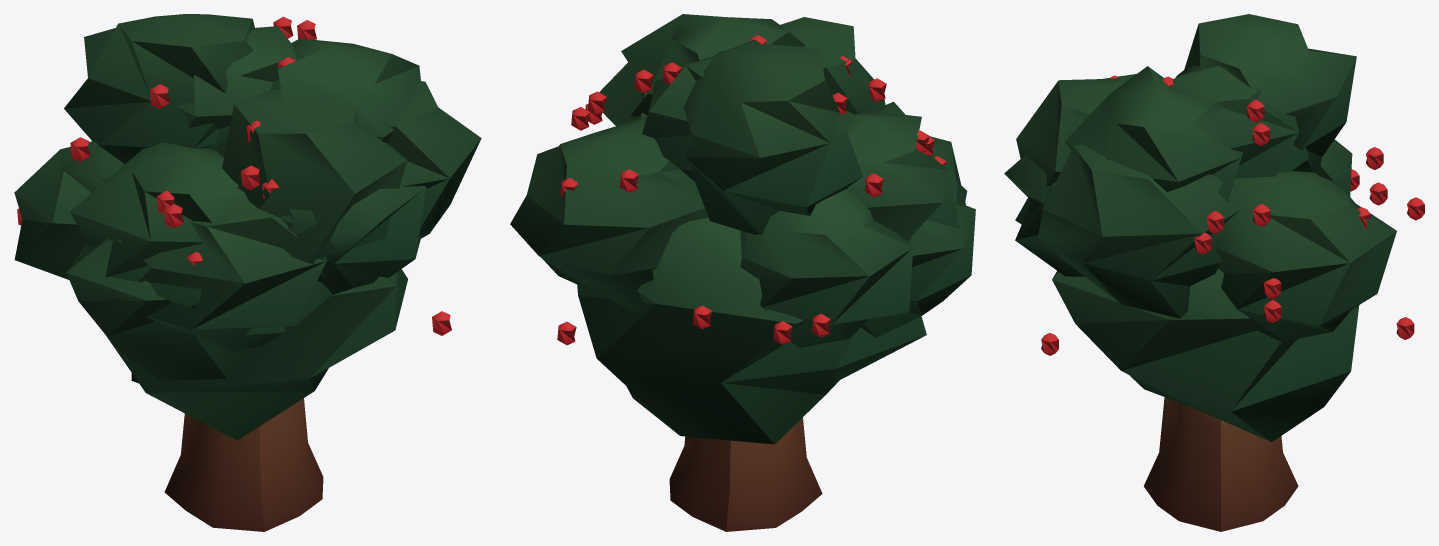
File: yew.glb
The picture shows the model from 3 angles, left to right: view 1: azimuth 30°, elevation 25°; view 2: azimuth 150°, elevation 25°; view 3: azimuth 270°, elevation 25°; orthographic projection. The views are drawn at different scales.
Visible parts, largest first — view 1: yew; view 2: yew; view 3: yew.
Boxes of the visible parts, <box> form: yew: <box>14,14,481,531</box>; yew: <box>510,14,975,531</box>; yew: <box>1004,14,1424,531</box>.
Size of the model in its own units: 0.8631 by 0.9952 by 0.8501.
